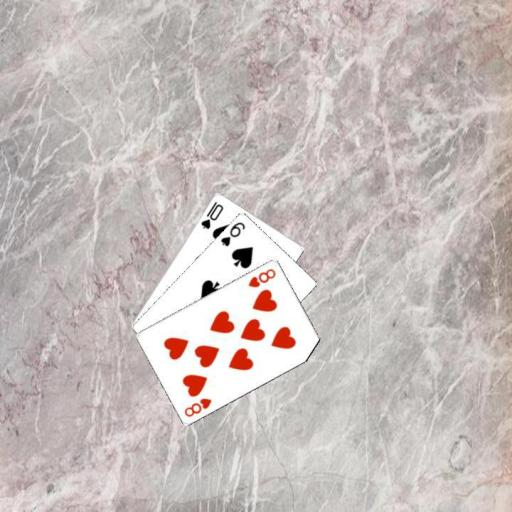10S: (198, 198, 225, 230)
6S: (218, 219, 247, 248)
8H: (245, 265, 277, 289), (182, 395, 214, 418)
